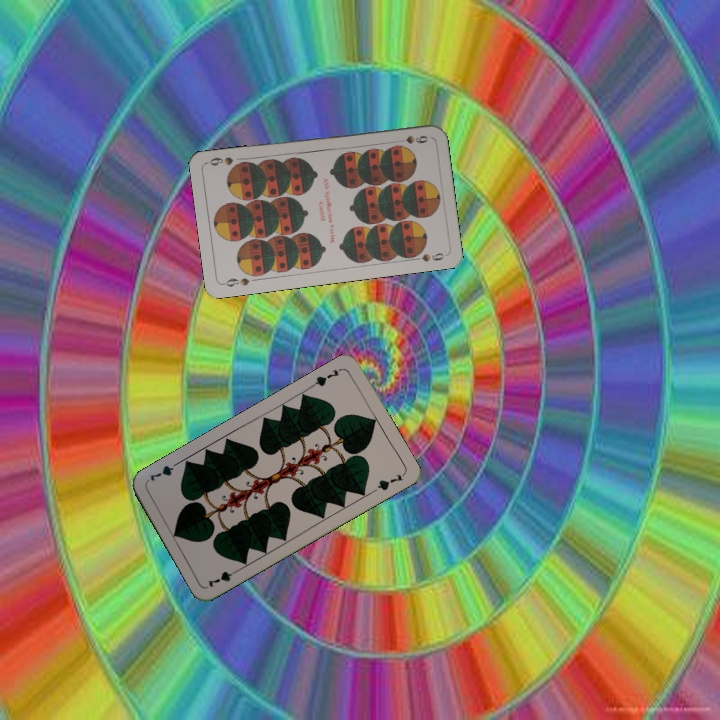G7: (204, 565, 243, 591), (308, 364, 345, 390)
S9: (391, 131, 431, 146), (219, 274, 252, 289)
